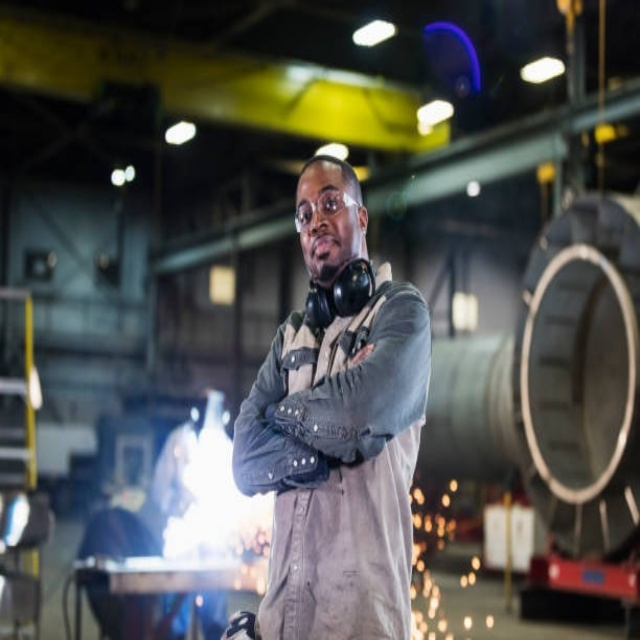Gafas: (294, 191, 362, 233)
Sin_mascara: (306, 234, 344, 268)
